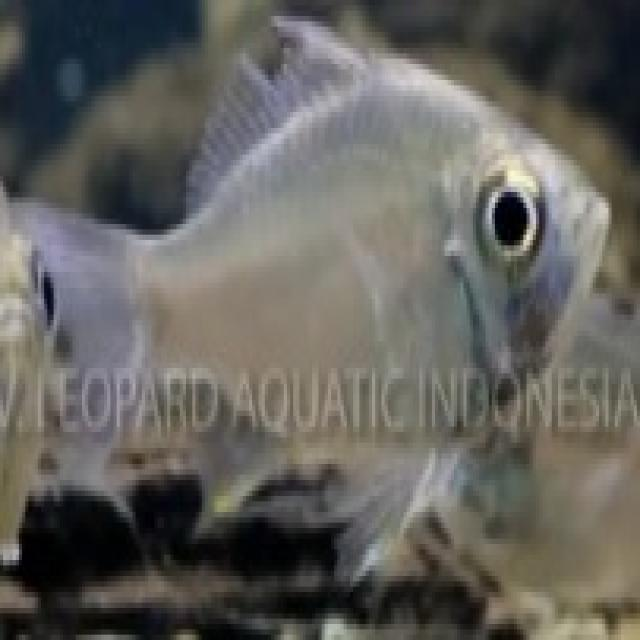Glass-Perchlet: (18, 17, 626, 623)
